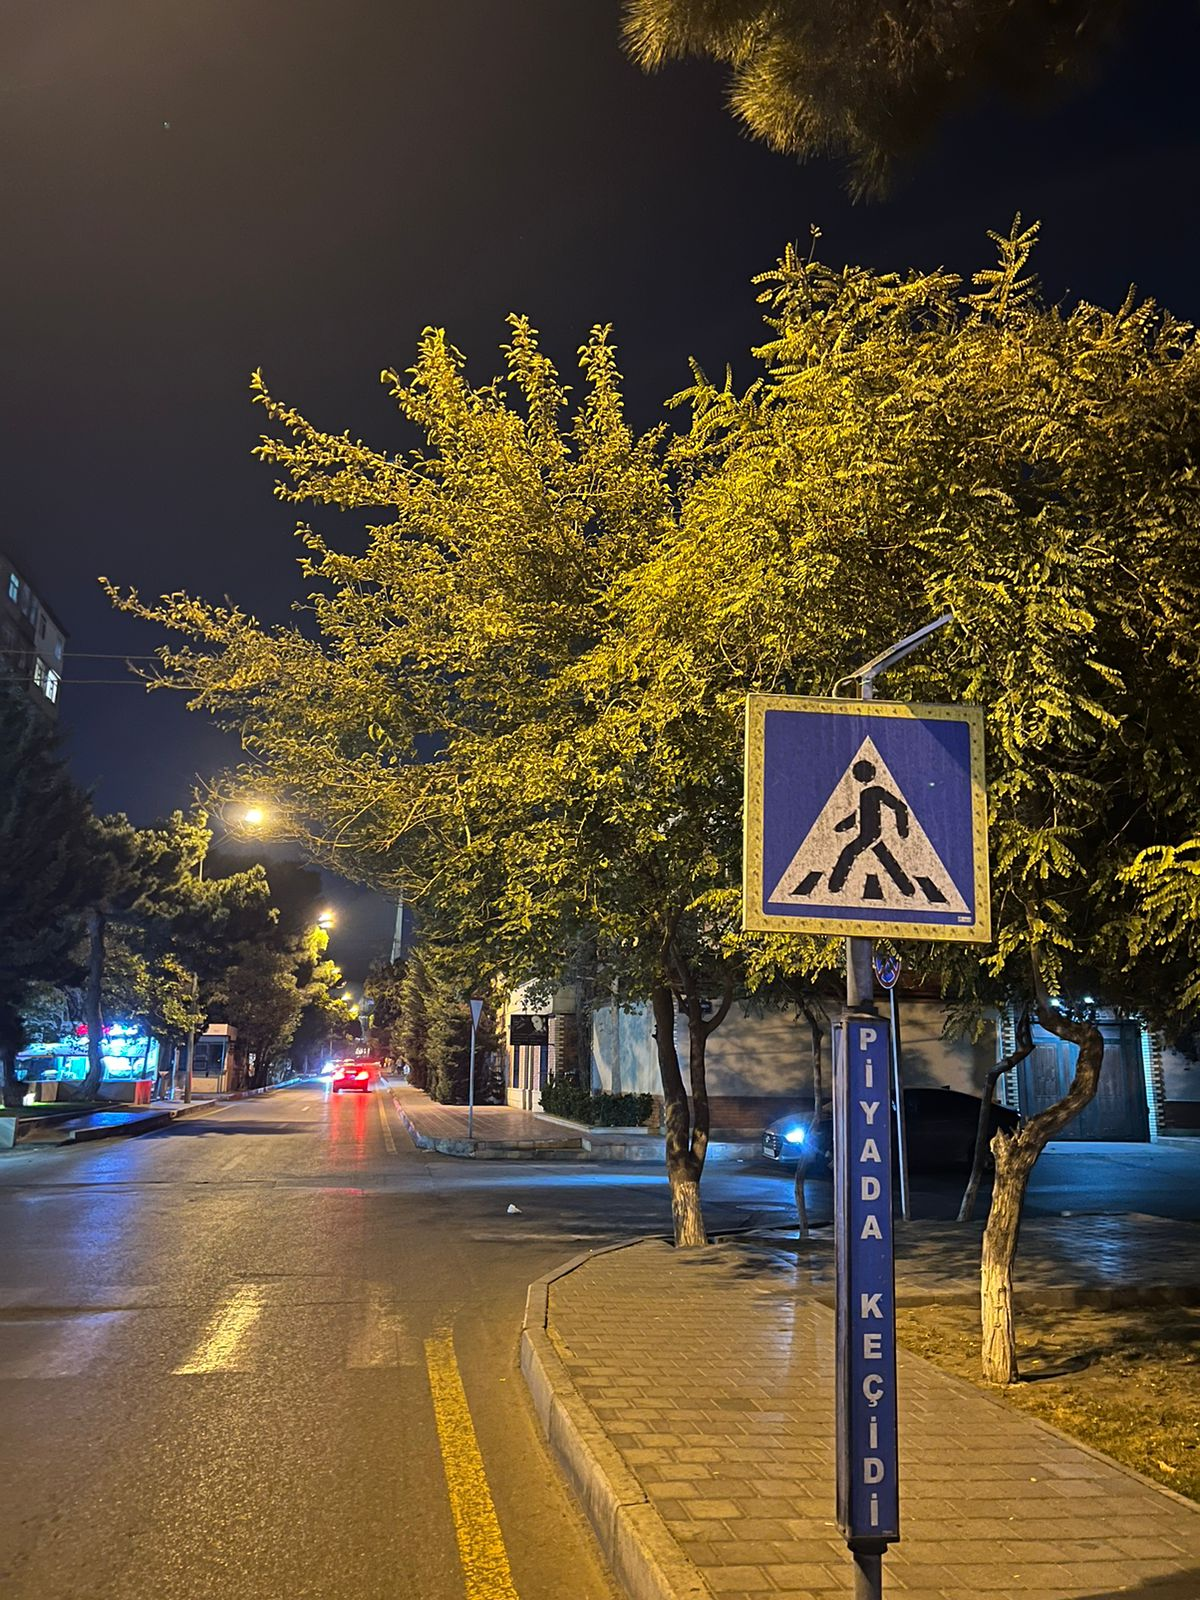Pedestrian Crossing: (749, 693, 993, 944)
